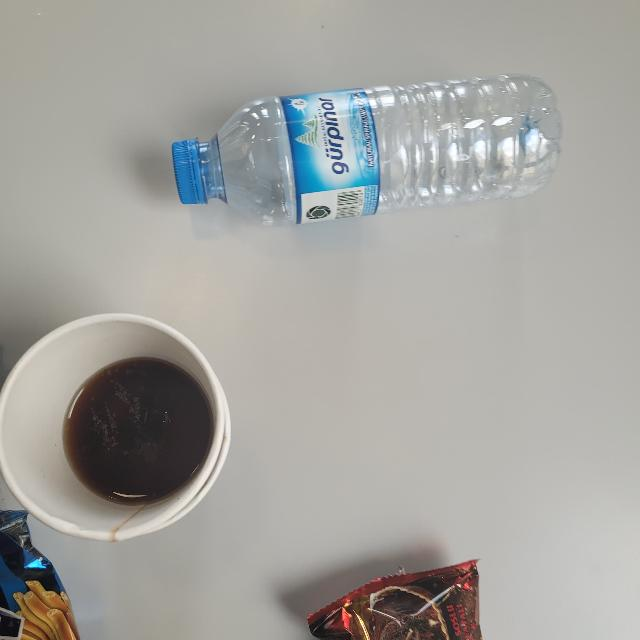Kagit: (0, 312, 228, 543)
Organik: (70, 360, 210, 499)
Plastik: (174, 77, 559, 228), (292, 555, 479, 640), (2, 513, 74, 640)
